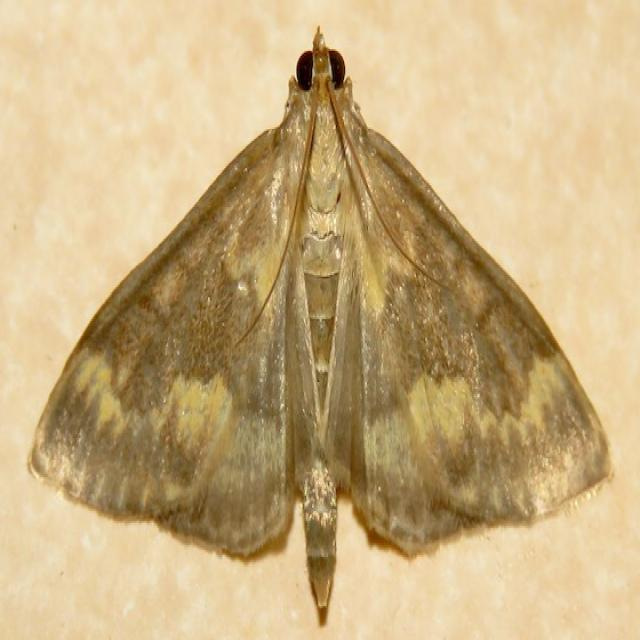cornborer-Adult-: (24, 15, 626, 611)
